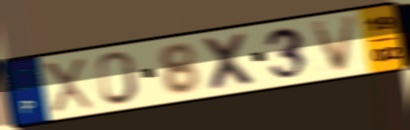0: (95, 50, 141, 107)
3: (264, 24, 315, 82)
8: (157, 41, 204, 97)
V: (308, 12, 361, 75)
X: (199, 30, 263, 92), (40, 55, 96, 115)
